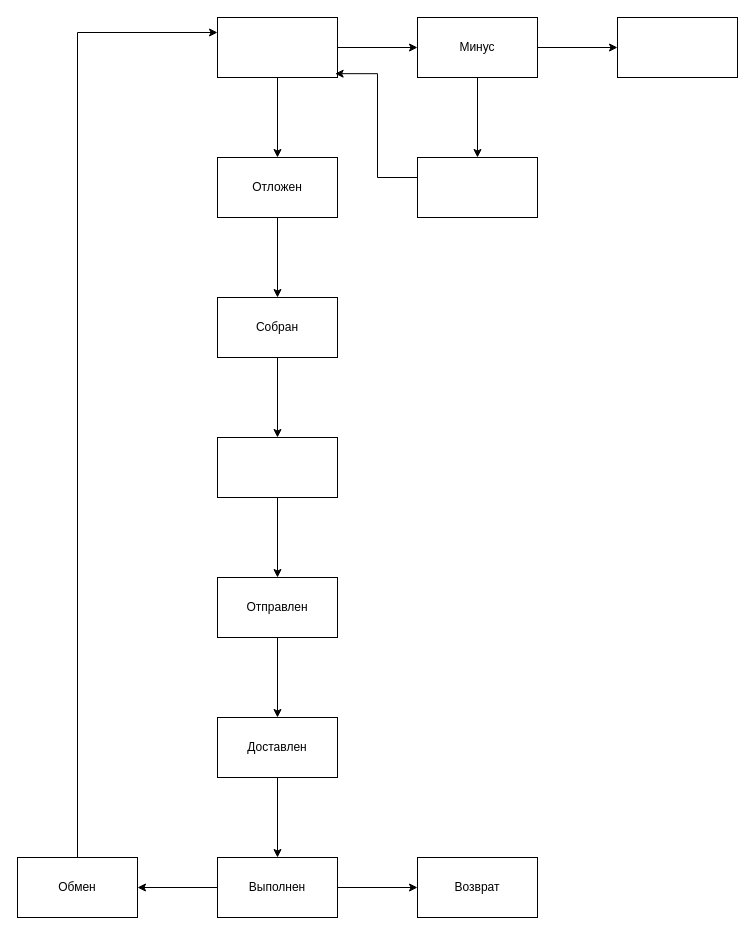
Image size: 755x935. Some labels were removed from this diagram. The shapes that lost their labels are listed below. From the top down, each one's centre as x and y in pixels, then its label:
At pixel 277 47: "Принят".
At pixel 677 47: "Отмена".
At pixel 477 187: "Замена".
At pixel 277 467: "Оплачен".
